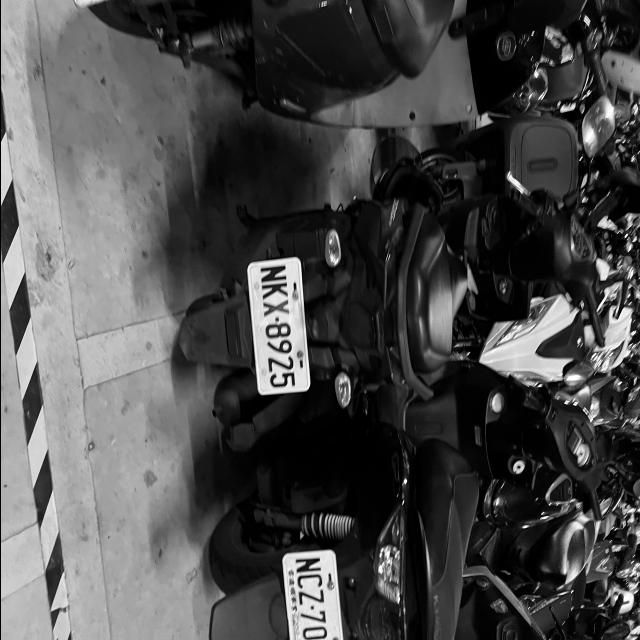-: (309, 605, 314, 611), (274, 316, 278, 322)
0: (302, 625, 327, 640)
2: (269, 372, 295, 389), (267, 354, 293, 370)
7: (300, 610, 326, 624)
8: (264, 322, 291, 338)
9: (266, 338, 292, 355)
C: (296, 574, 322, 588)
K: (260, 282, 288, 300)
N: (260, 264, 288, 282), (295, 557, 321, 573)
X: (262, 300, 288, 316)
Z: (298, 590, 324, 606)
plate: (253, 258, 299, 398)
